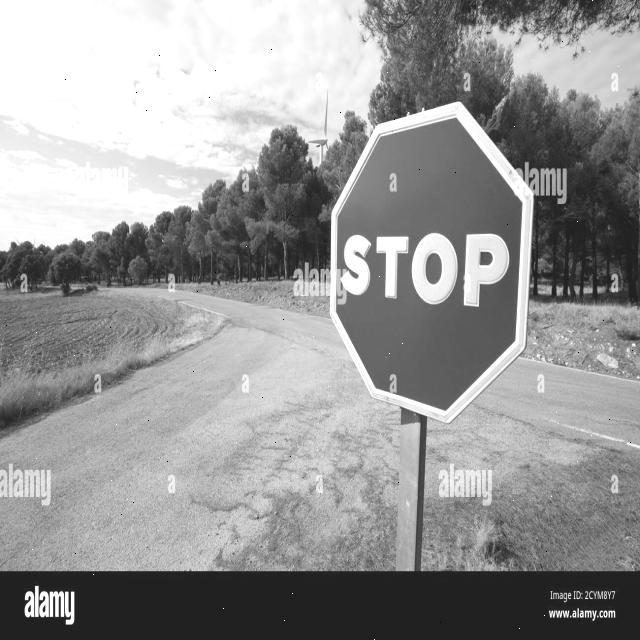Stop-sign: (318, 91, 550, 442)
